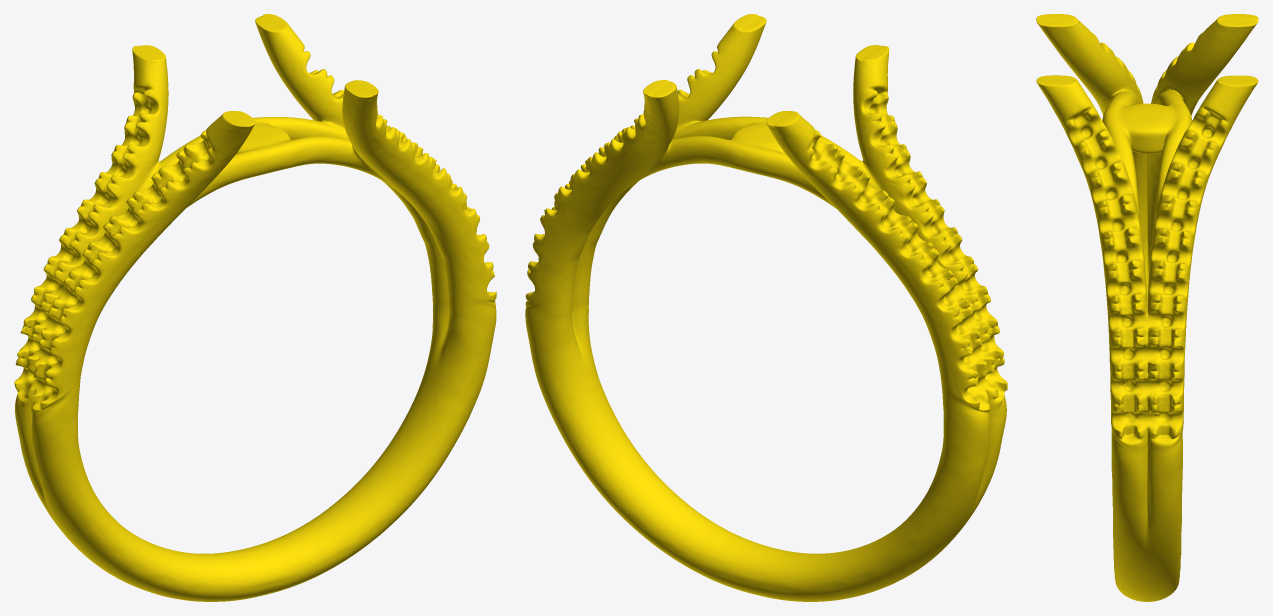
Rendered from Shank_Two row split_U Prong_B_Single Halo_Band.glb.
The picture shows the model from 3 angles, left to right: view 1: azimuth 30°, elevation 25°; view 2: azimuth 150°, elevation 25°; view 3: azimuth 270°, elevation 25°; orthographic projection.
Bounding box in the file's own units: 0.0212 × 0.023 × 0.0088.
